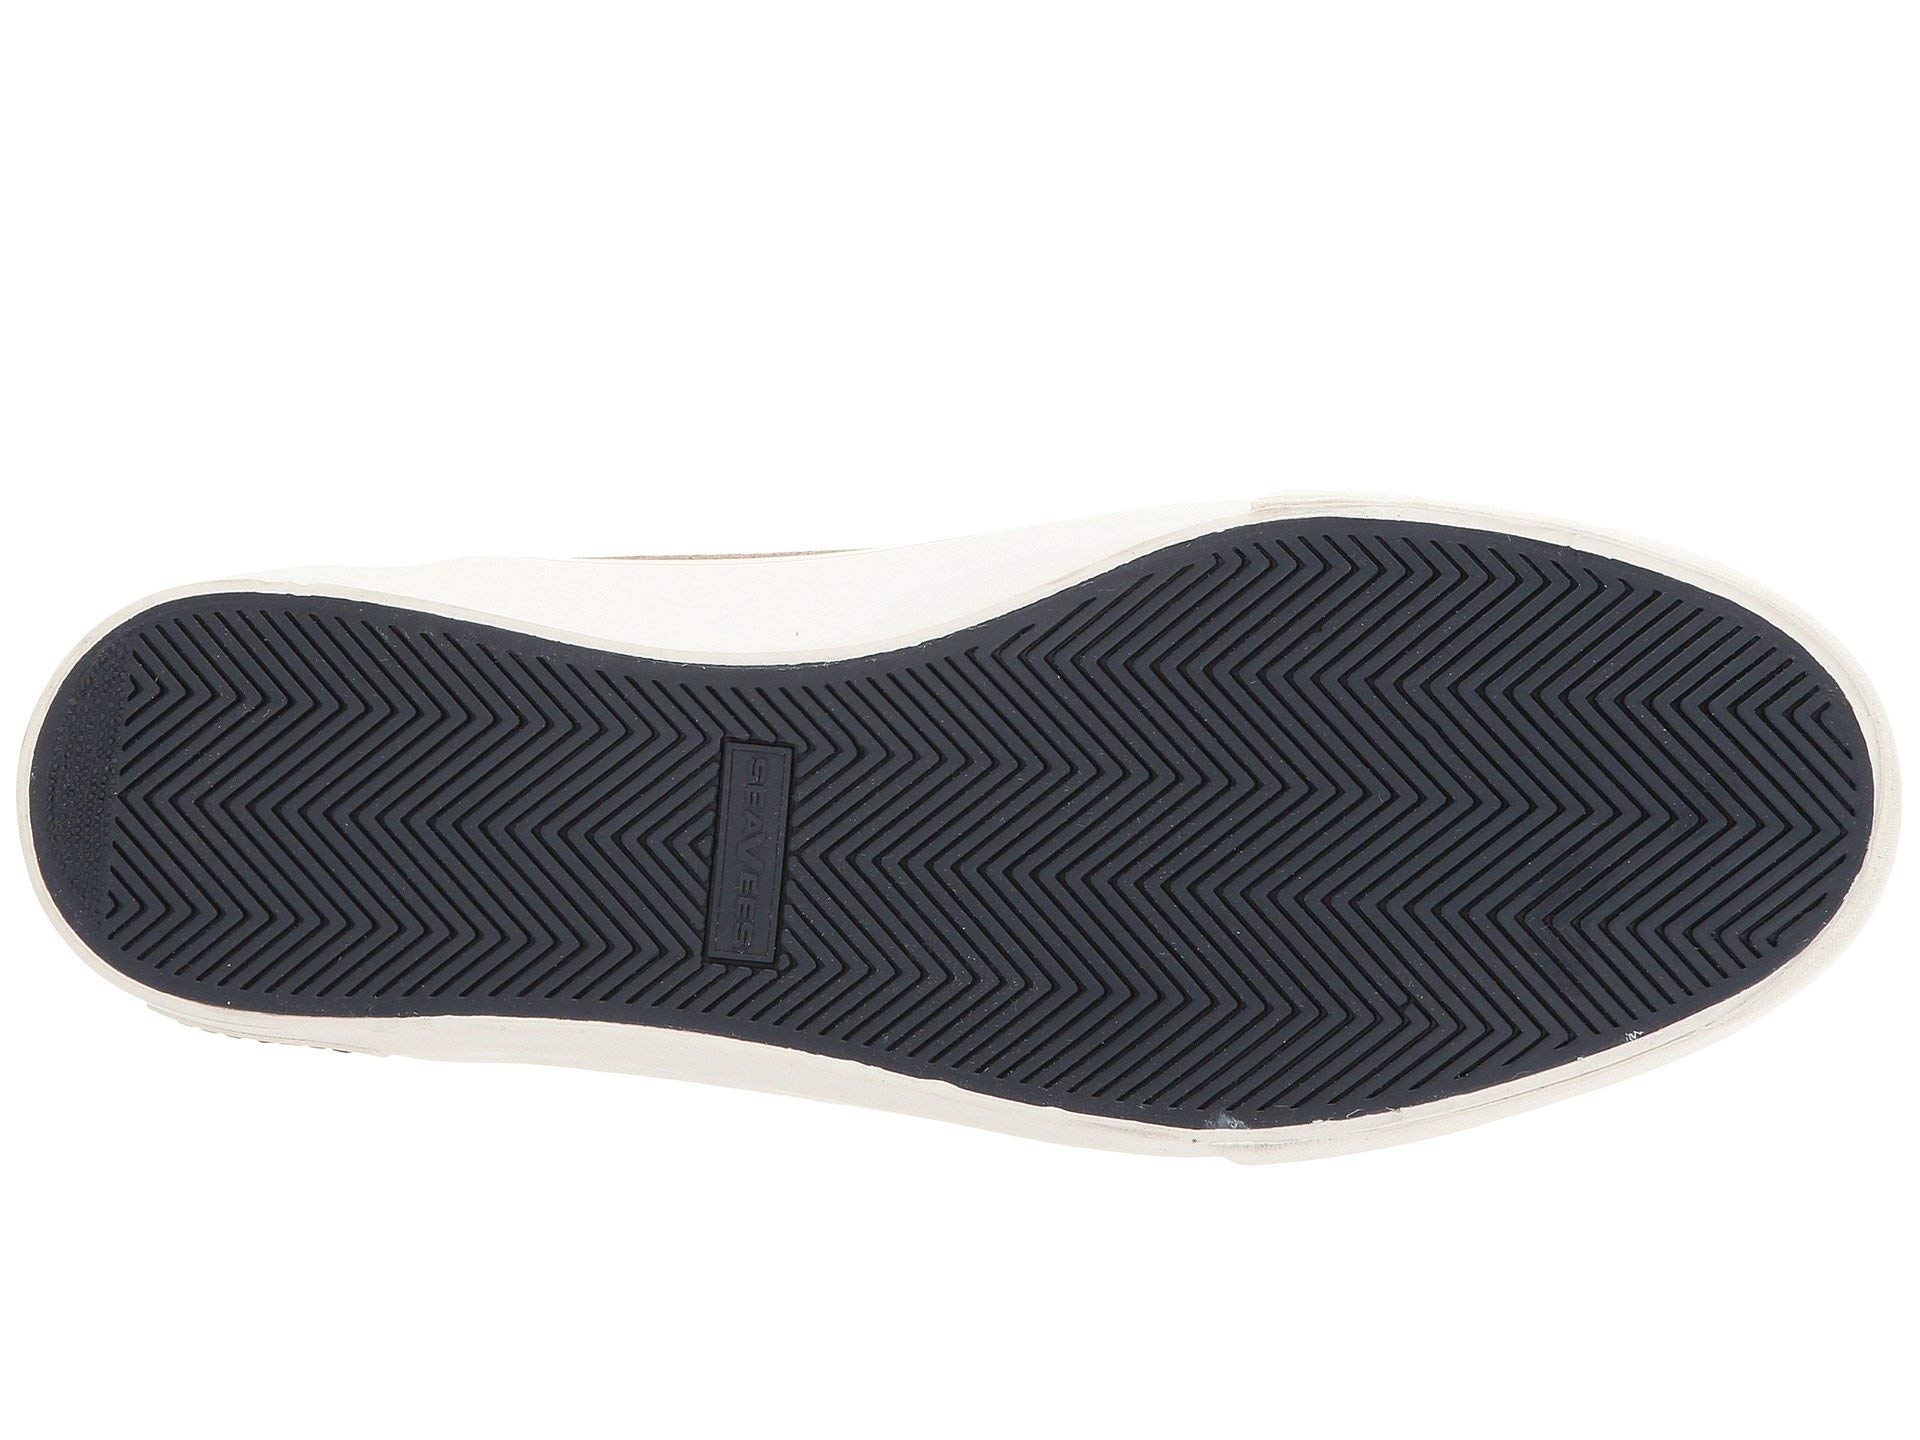chevron: (561, 669, 913, 989), (1007, 681, 1306, 994)
quad: (561, 669, 913, 989)
text: (561, 669, 913, 989)
